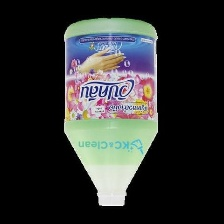cleaning_solution: (61, 15, 162, 209)
